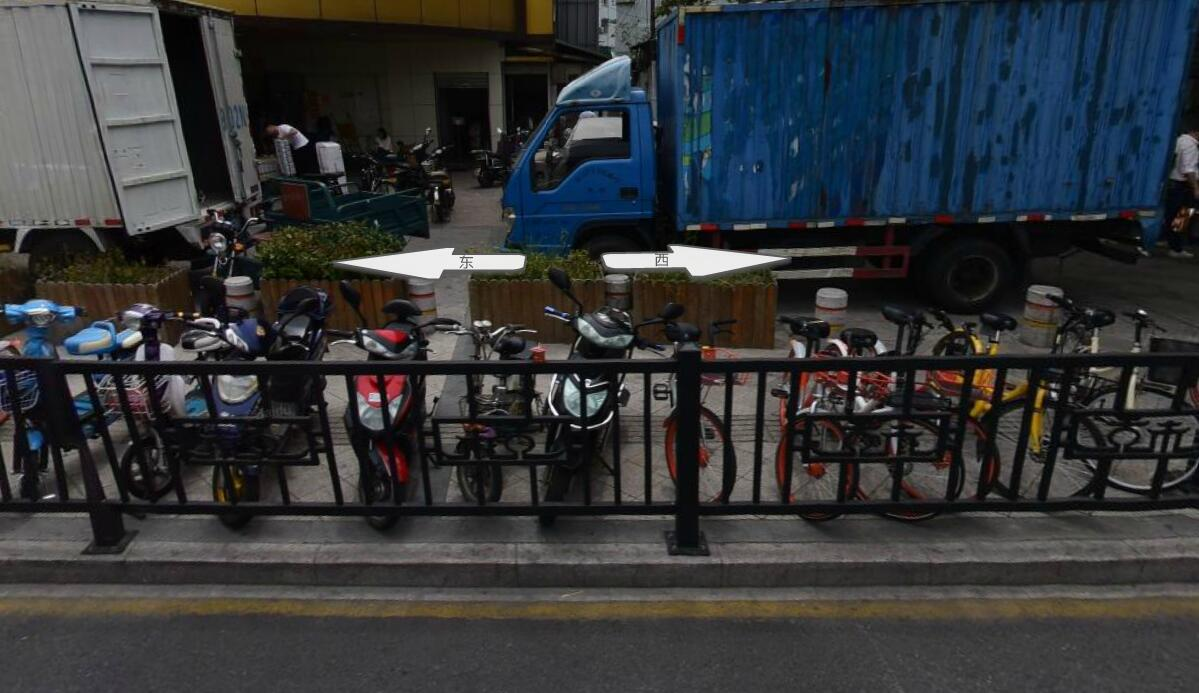side: (931, 541, 1145, 586), (719, 544, 932, 589), (313, 540, 518, 586), (520, 544, 721, 588), (126, 541, 317, 584)
